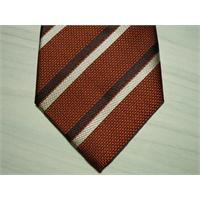tie: (35, 24, 163, 172)
